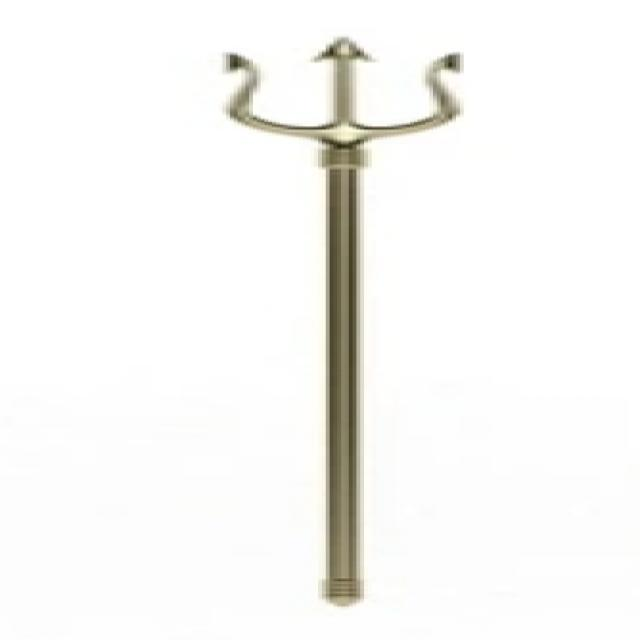spear: (169, 22, 523, 618)
